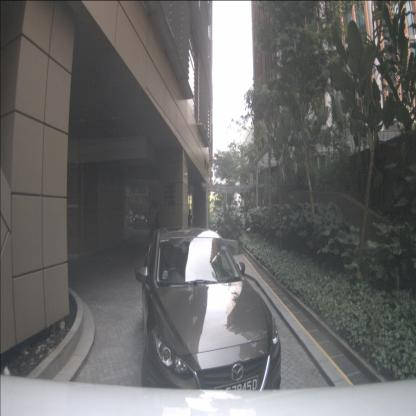human-pedestrian-adult: (186, 209, 194, 240)
vehicle-car: (141, 228, 282, 416), (120, 209, 134, 227), (132, 213, 142, 229), (139, 213, 148, 229)
